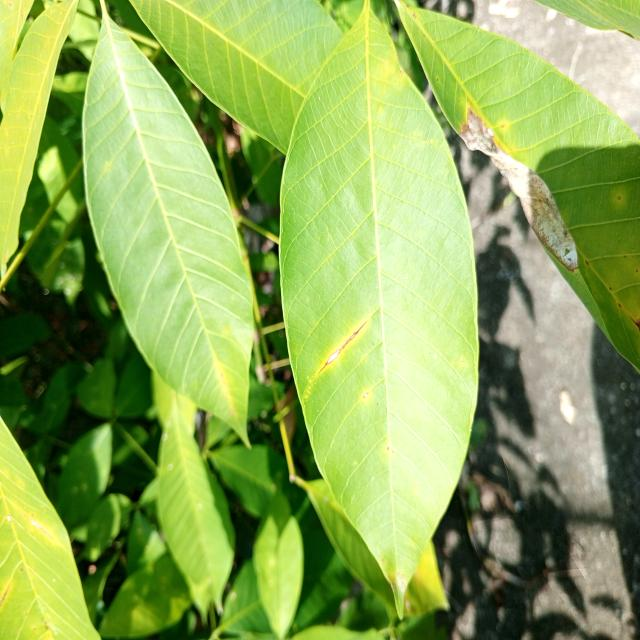Colletotrichum: (618, 196, 621, 200)
Corynespora: (319, 321, 367, 374), (629, 316, 640, 330)
Leaf-Blight: (459, 111, 578, 271)
